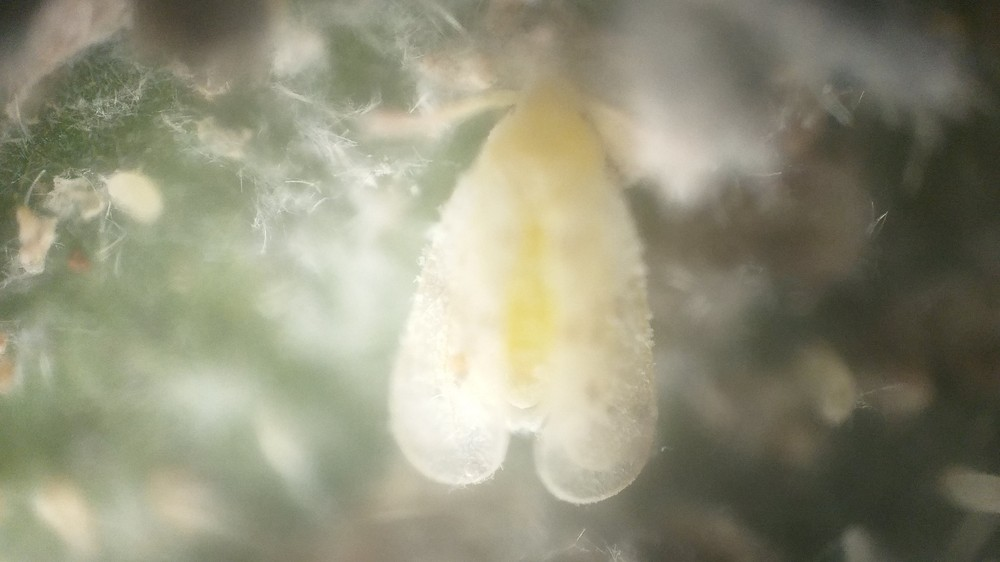Mosca Blanca: (331, 68, 723, 527)
